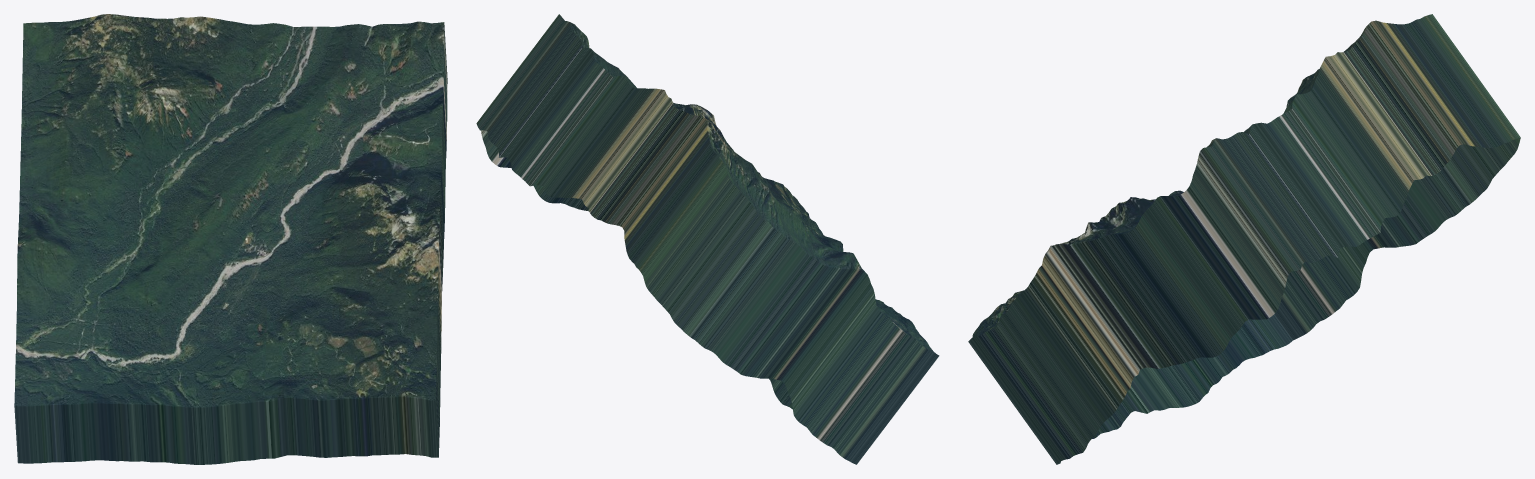
3 renders of one model, left to right at view 1: azimuth 30°, elevation 25°; view 2: azimuth 150°, elevation 25°; view 3: azimuth 270°, elevation 25°, orthographic. The views are drawn at different scales.
Size of the model in its own units: 10704 by 8322 by 10913.
1 material, 1 textured.
